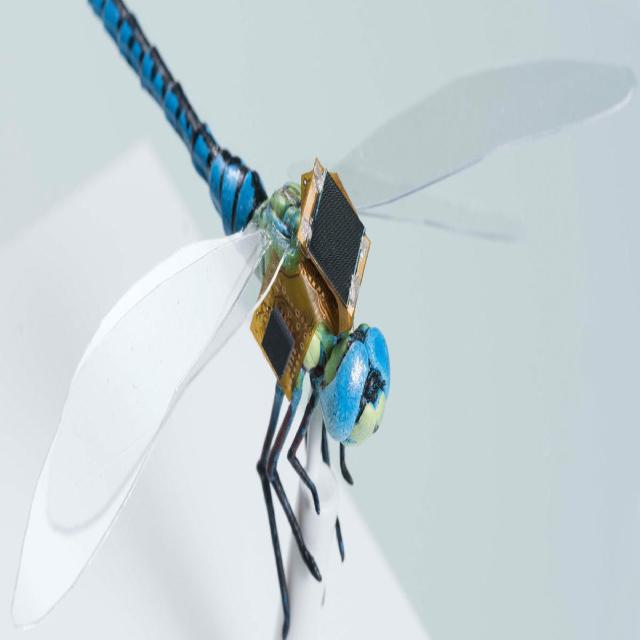dragonfly: (13, 0, 636, 638)
